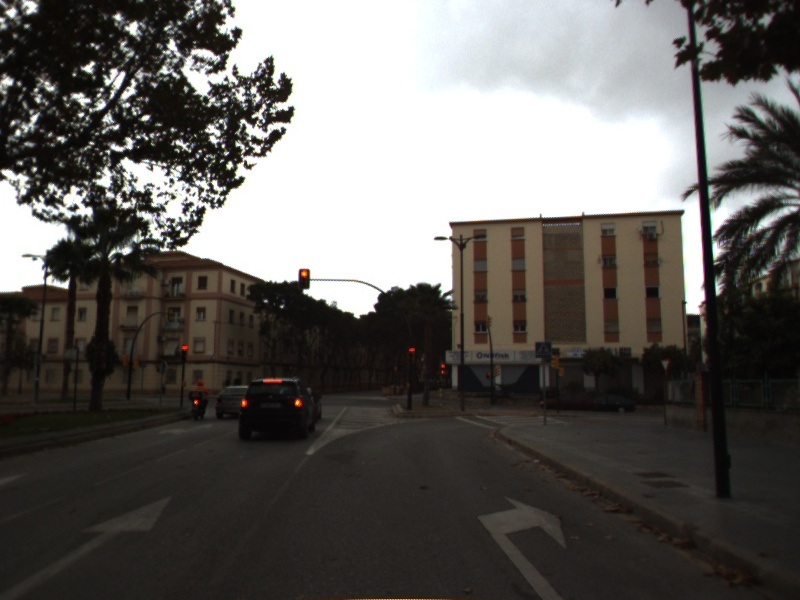RIGHT: (473, 491, 569, 600)
STRAIGHT: (1, 492, 177, 600)
